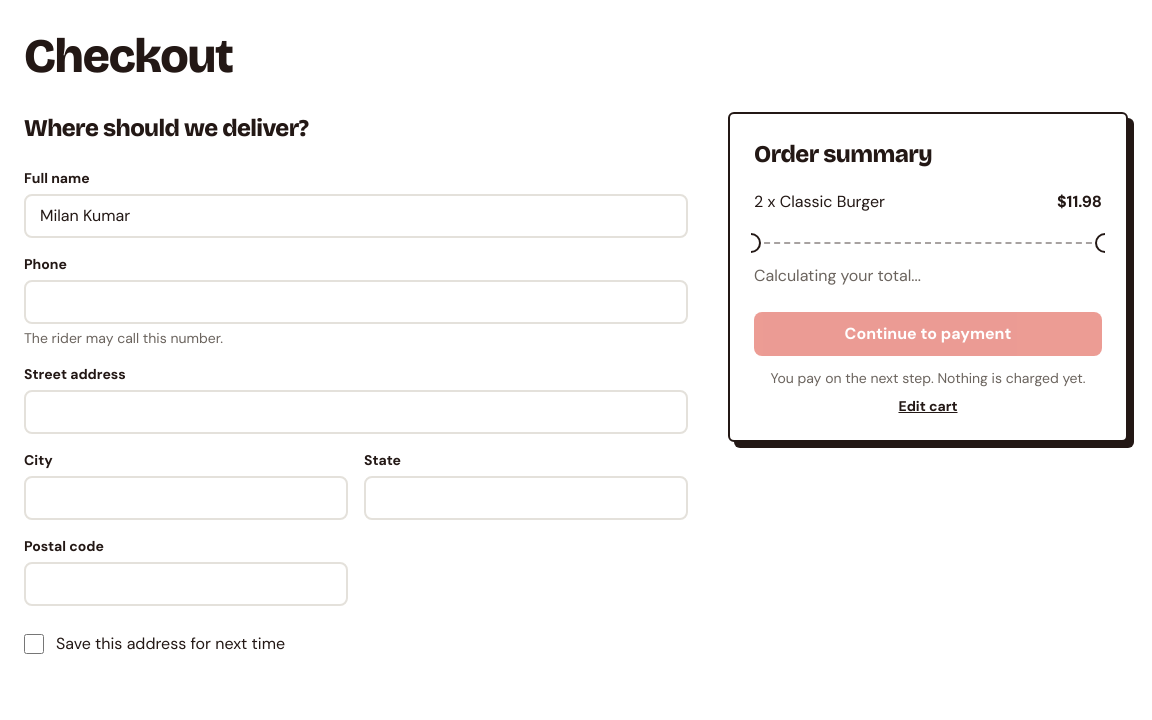
Checkout › creates the order from ids and quantities only, then moves to payment
Type "9876543210" into the field labelled "Phone" at (356, 302), box [24,280,688,324]
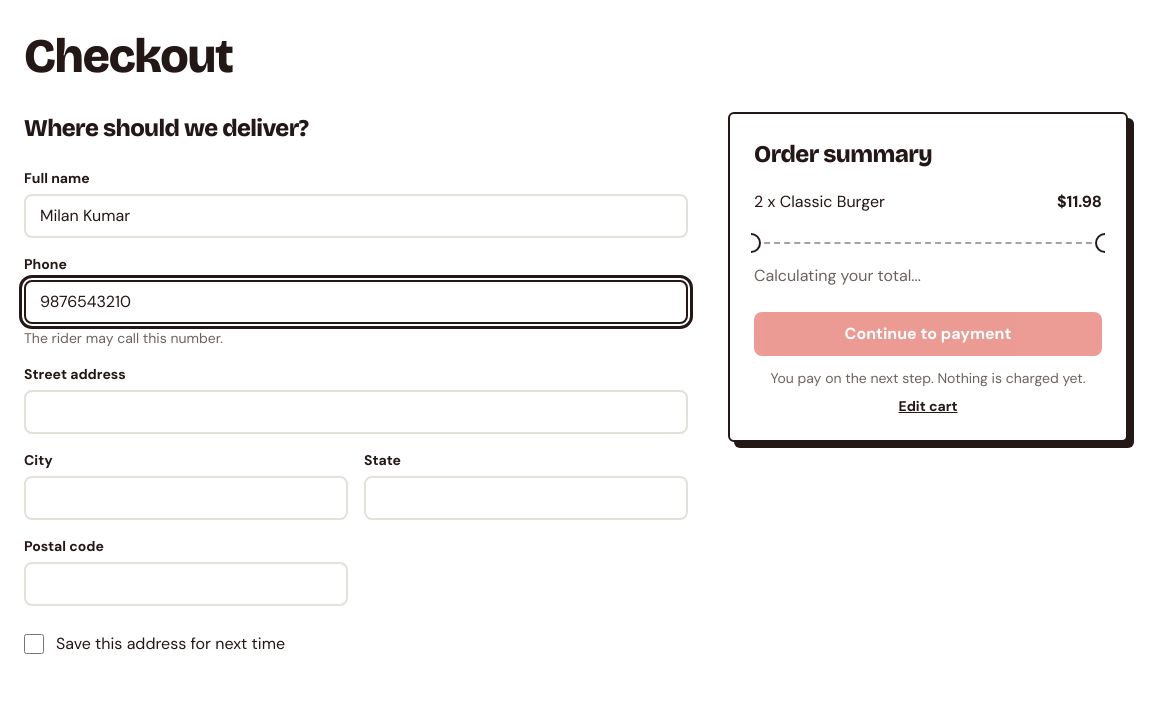
Type "12 Test Street" into the field labelled "Street address" at (356, 412), box [24,390,688,434]
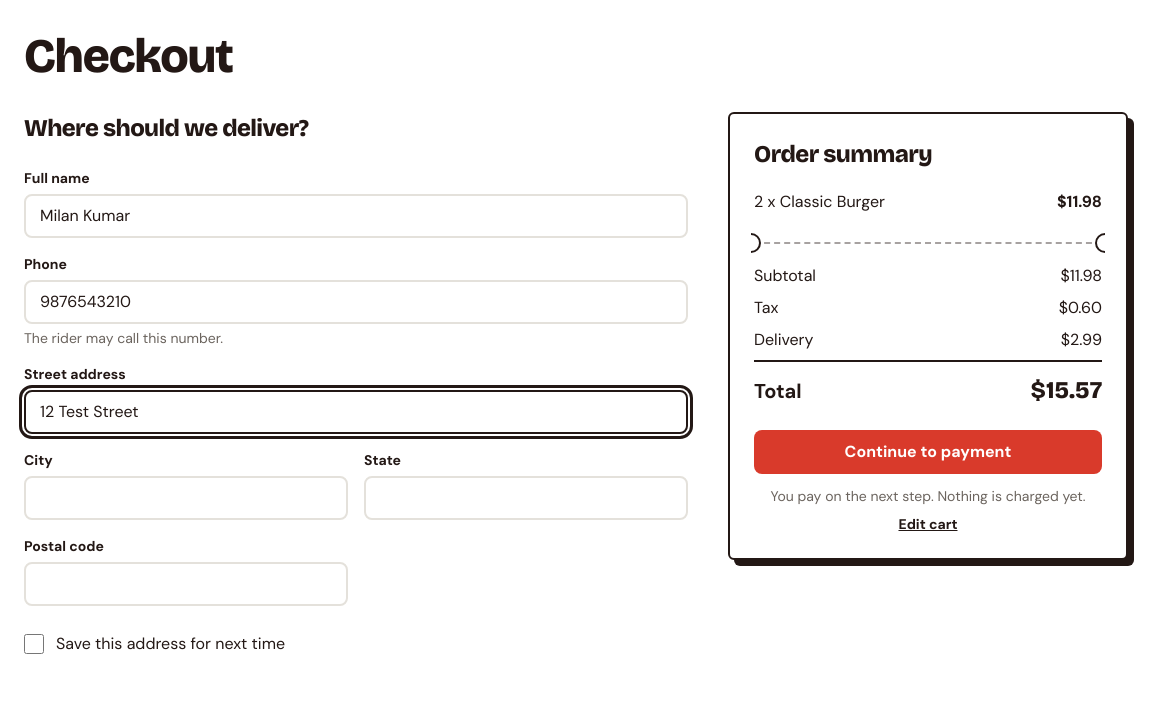
Type "Indore" into the field labelled "City" at (186, 498), box [24,476,348,520]
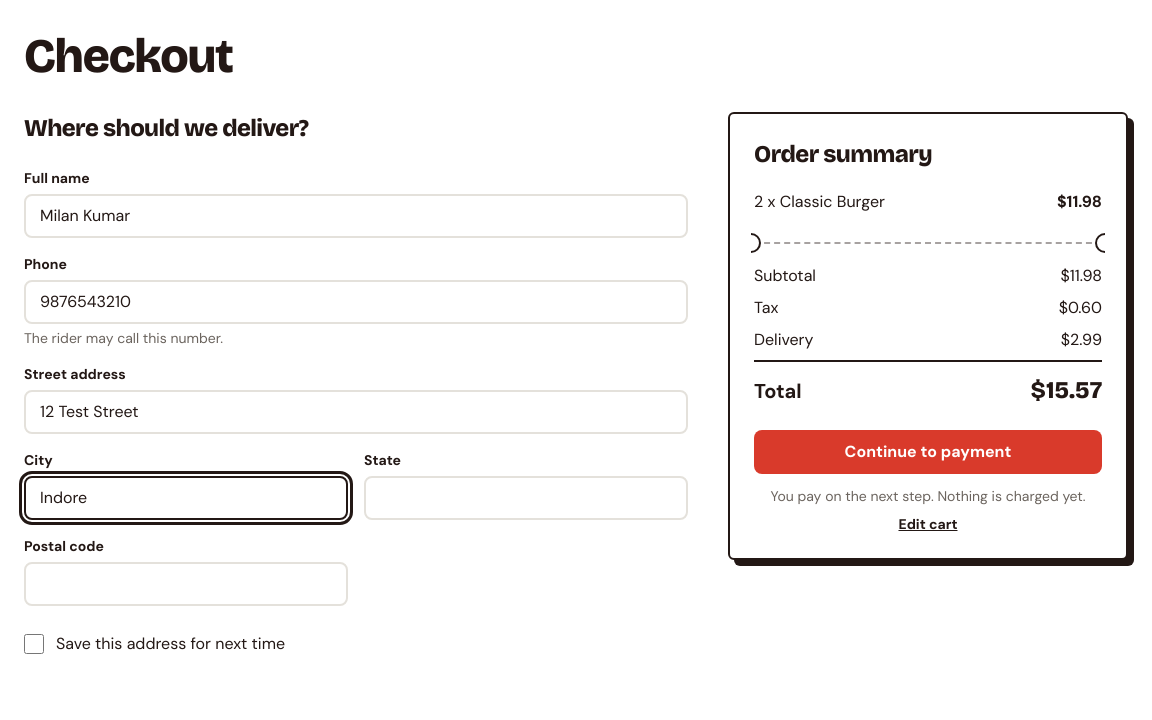
Type "MP" into the field labelled "State" at (526, 498), box [364,476,688,520]
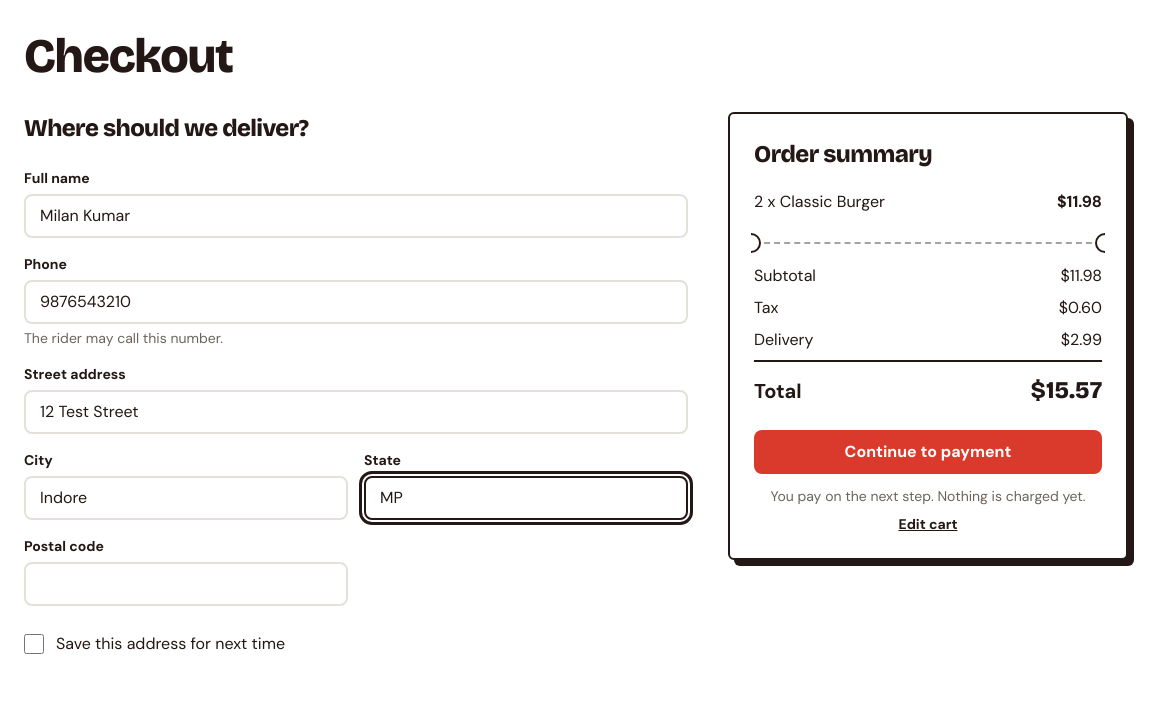
Type "452001" into the field labelled "Postal code" at (186, 584), box [24,562,348,606]
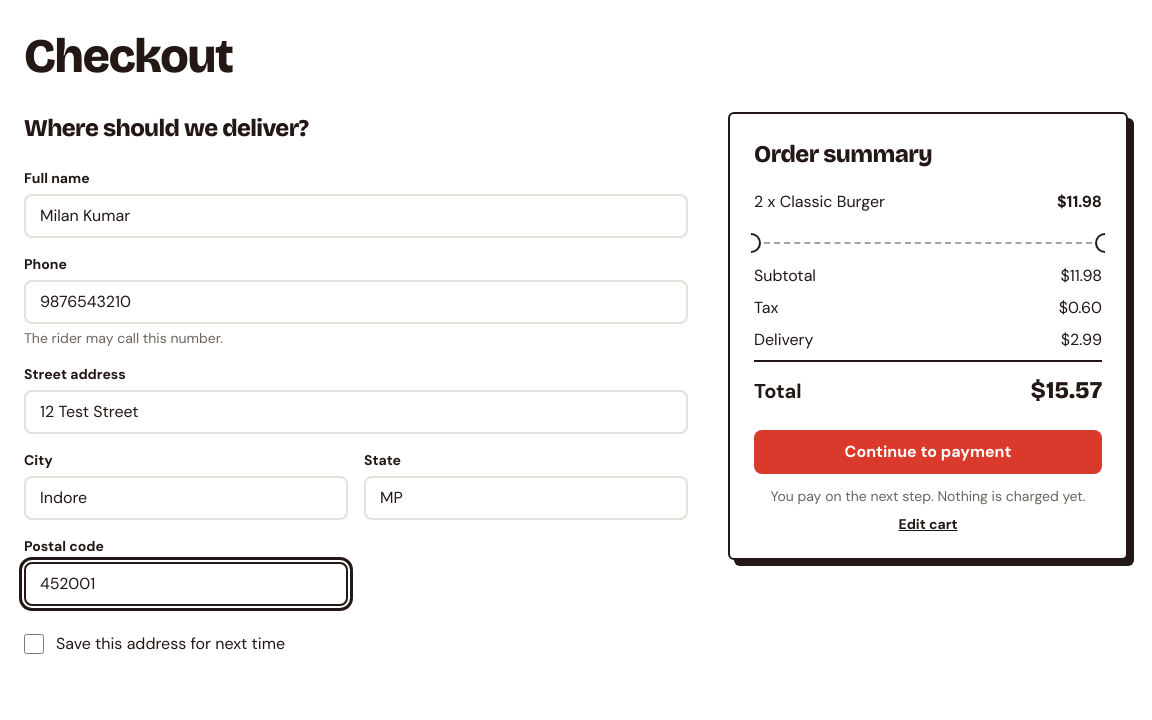
Result: the text "$15.57" is shown at [1031,374,1102,406]
Click the button "Continue to payment" at (928, 452), box [754,430,1102,474]
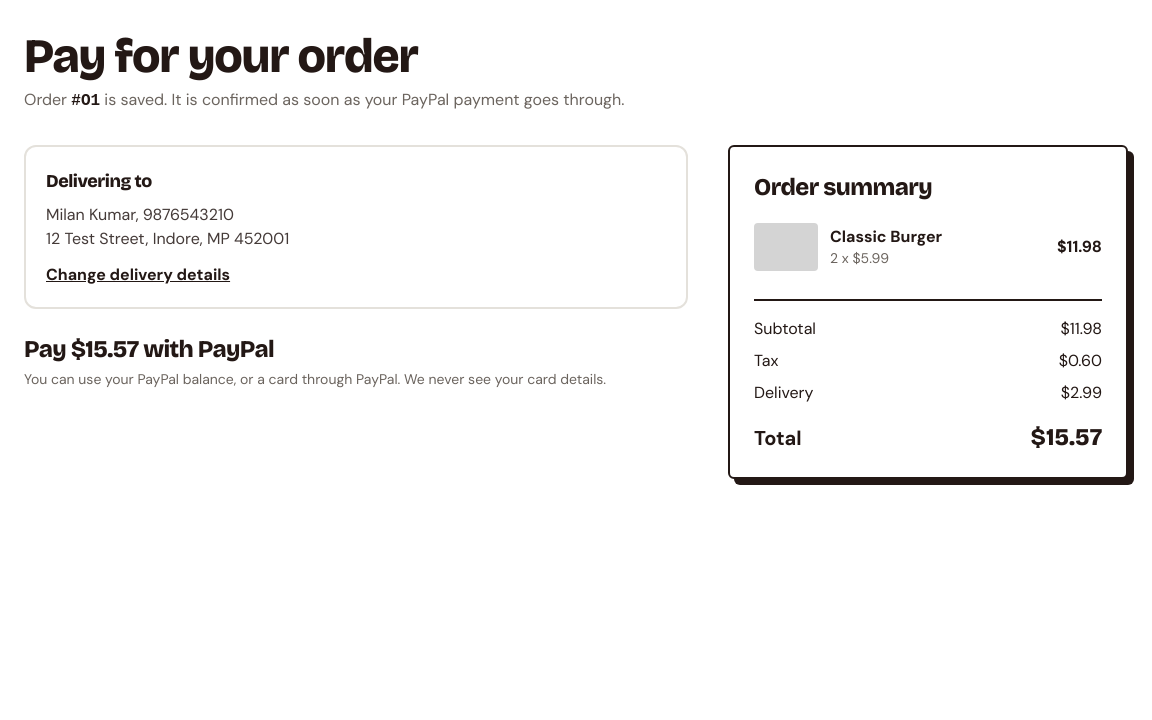
Result: the heading "Pay $15.57 with PayPal" is shown at [24,335,274,363]
